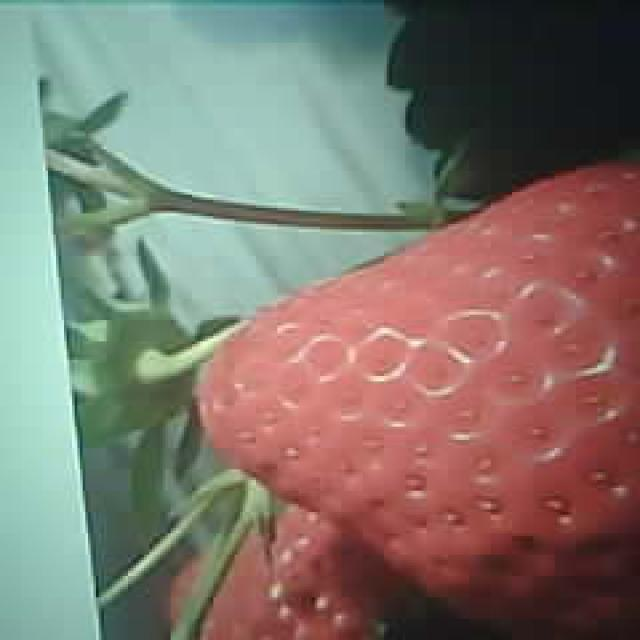strawberry: (202, 161, 639, 624)
